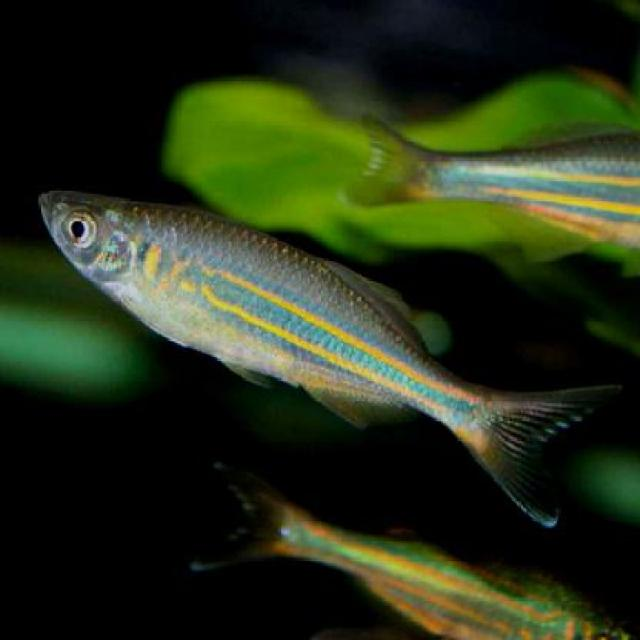ZebraFish: (28, 188, 618, 544)
